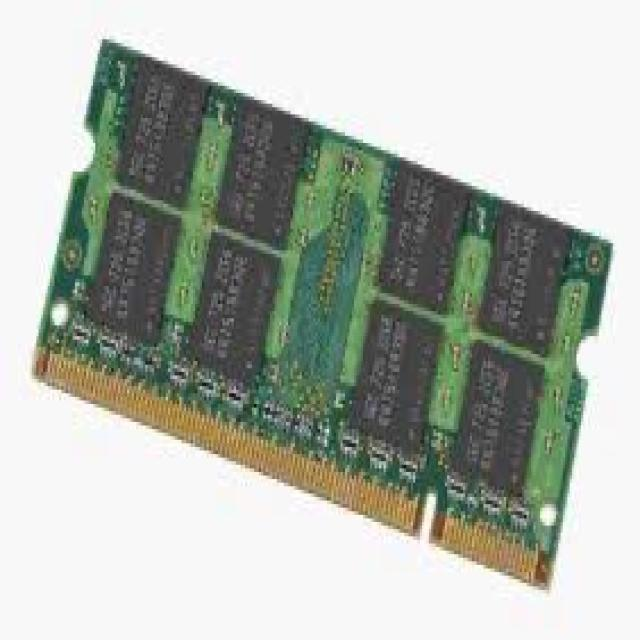Ram: (57, 50, 596, 599)
